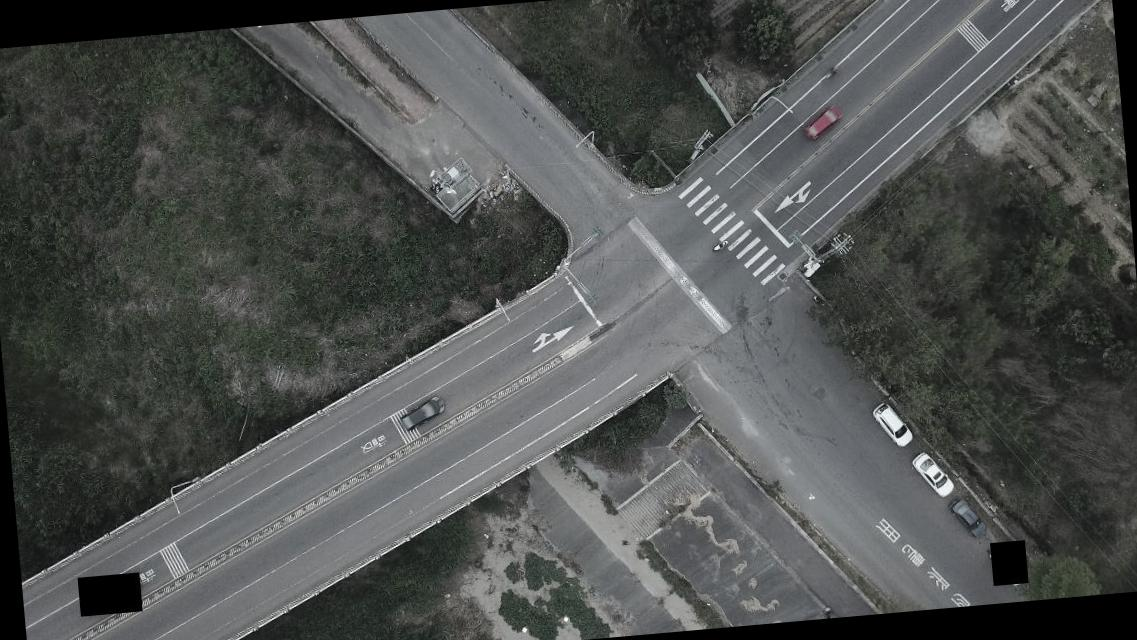vehicle: (908, 449, 957, 500), (869, 400, 914, 451), (946, 496, 990, 540), (398, 393, 447, 430), (802, 106, 845, 142)
